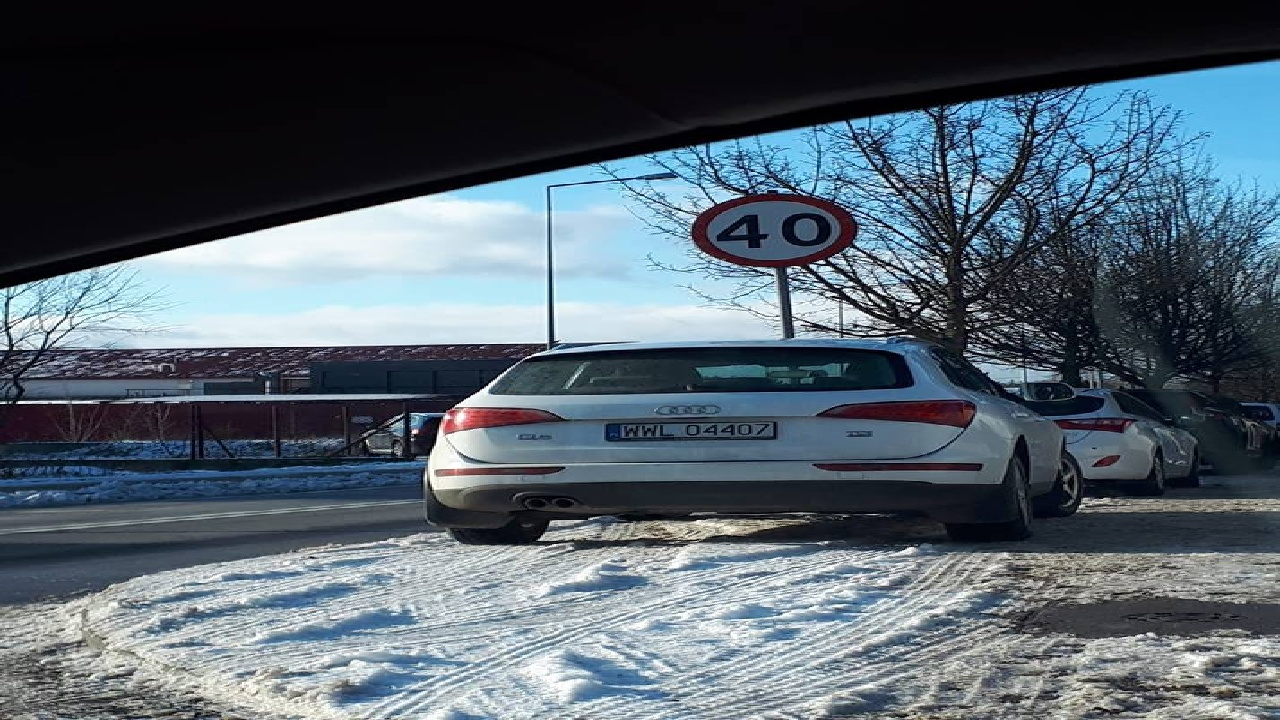B33_40: (684, 188, 865, 276)
